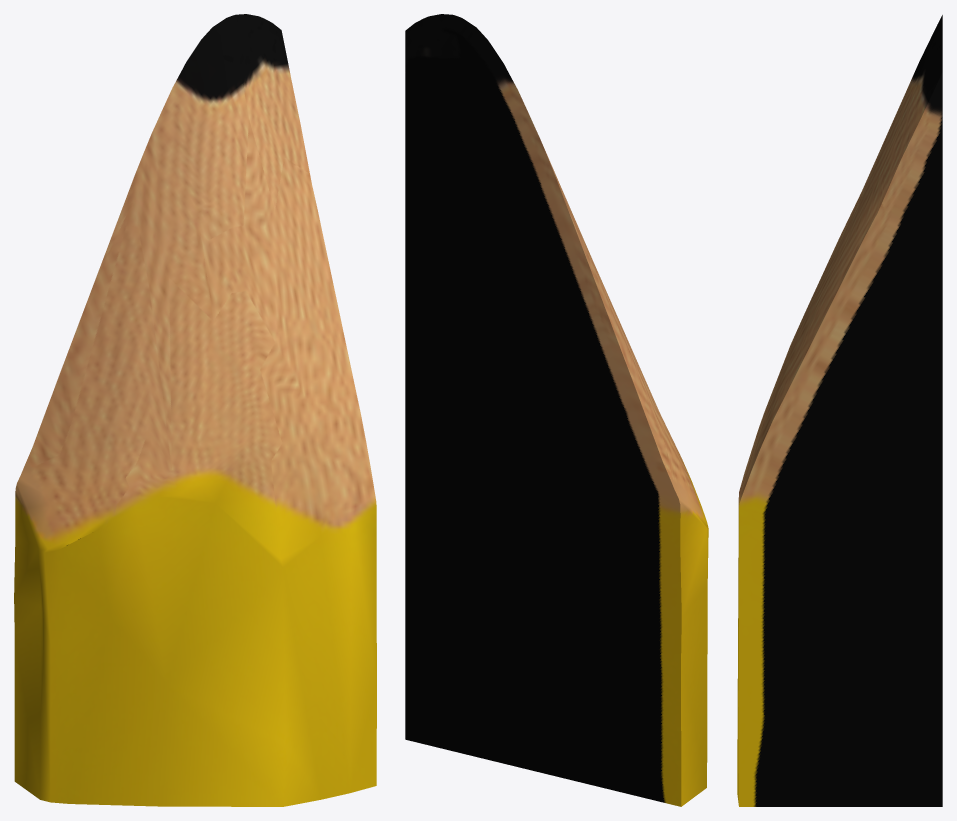
The model's file is 13-topper-front-left.fbx.
3 views of the same model, side by side, from view 1: azimuth 30°, elevation 25°; view 2: azimuth 150°, elevation 25°; view 3: azimuth 270°, elevation 25° (orthographic). The views are drawn at different scales.
Visible parts, largest first — view 1: topper-front-left; view 2: topper-front-left; view 3: topper-front-left.
Part boxes in pixels (left/top/right/bottom): topper-front-left: left=14, top=14, right=376, bottom=806; topper-front-left: left=405, top=14, right=708, bottom=806; topper-front-left: left=737, top=15, right=942, bottom=806.
Size of the model in its own units: 1124 by 2860 by 697.
1 material, 1 textured.
